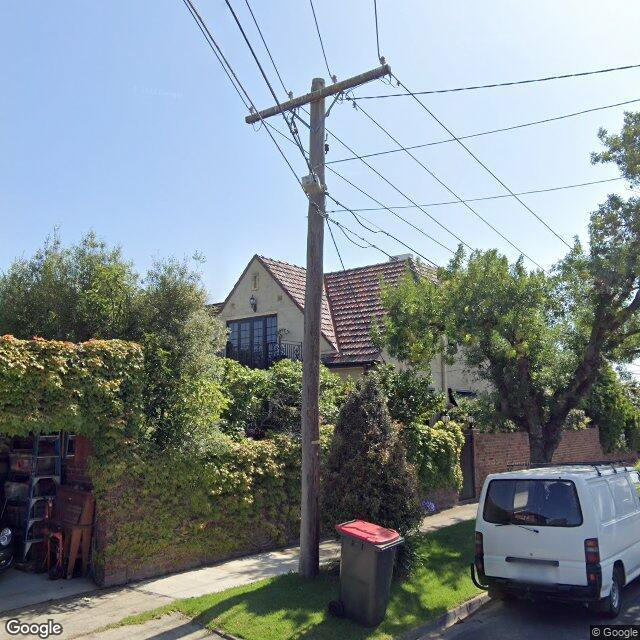crossarm: (244, 56, 403, 133)
timber-pole: (297, 75, 327, 577)
